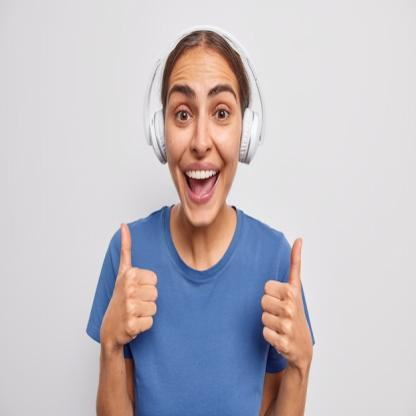thumb_up: (105, 219, 161, 345), (258, 233, 311, 362)
